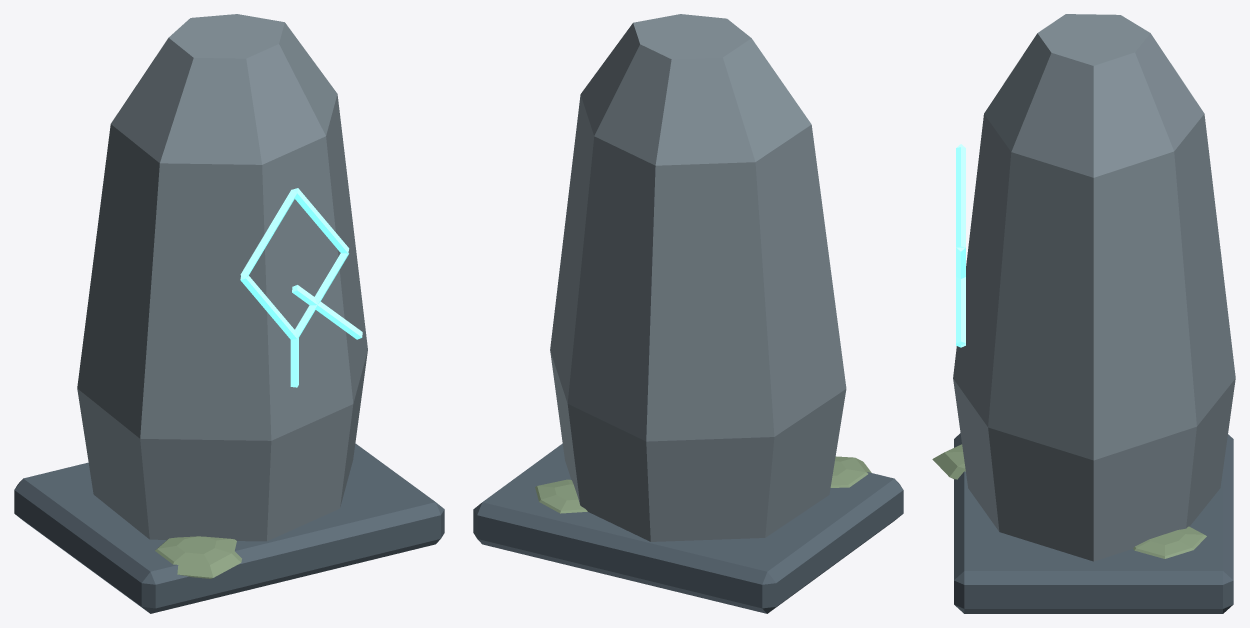
File: sentinel_rune_stone.glb
3 views of the same model, side by side, from view 1: azimuth 30°, elevation 25°; view 2: azimuth 150°, elevation 25°; view 3: azimuth 270°, elevation 25° (orthographic).
Visible parts, largest first — view 1: sentinel_rune_stone_Geometry; view 2: sentinel_rune_stone_Geometry; view 3: sentinel_rune_stone_Geometry.
Part boxes in pixels (left/top/right/bottom): sentinel_rune_stone_Geometry: left=14, top=14, right=444, bottom=613; sentinel_rune_stone_Geometry: left=473, top=14, right=903, bottom=613; sentinel_rune_stone_Geometry: left=932, top=14, right=1235, bottom=613.
Bounding box in the file's own units: 1.5 × 2.35 × 1.28.
